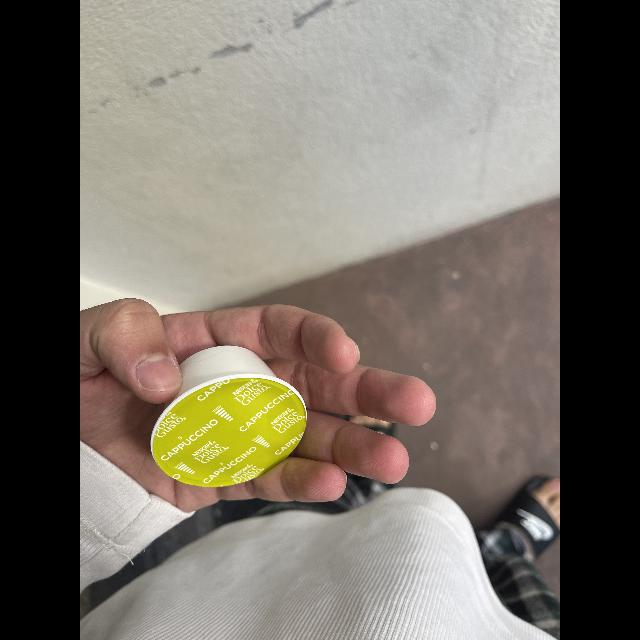intact_capsule: (138, 334, 312, 500)
